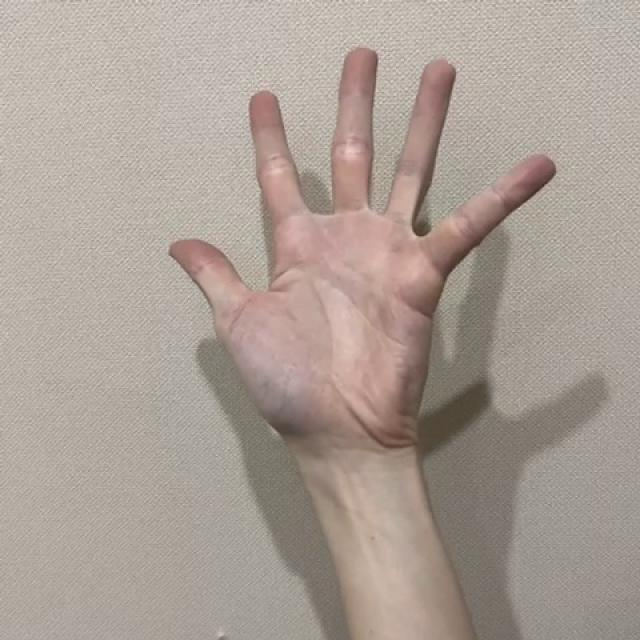hand: (167, 44, 562, 523)
